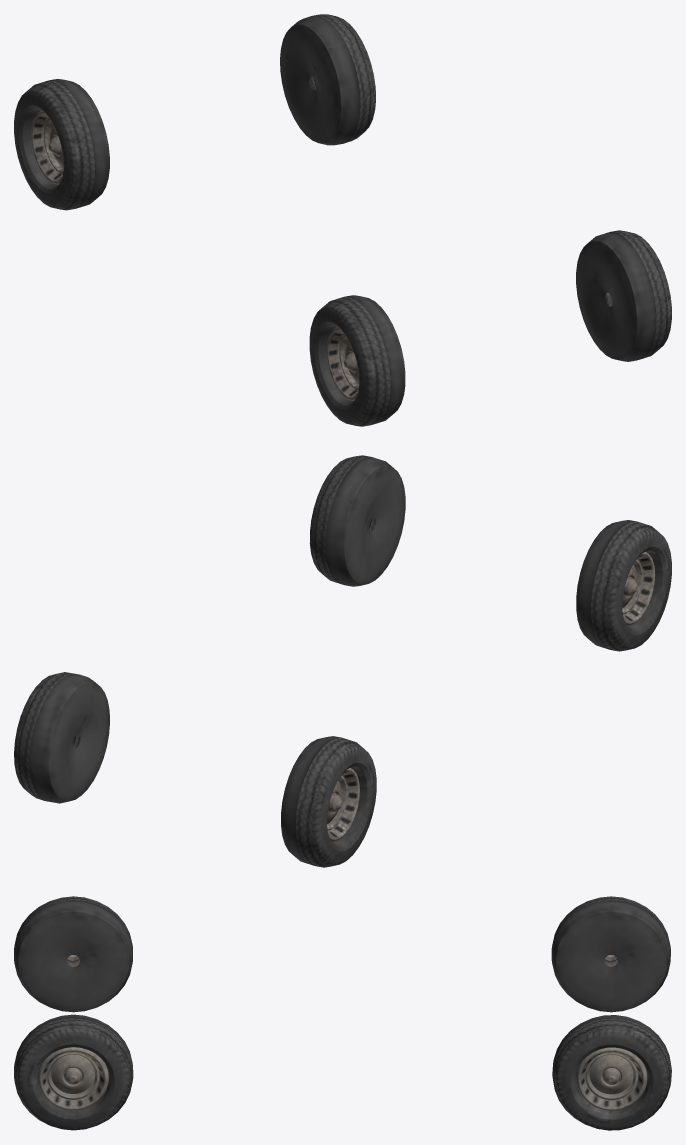
The model's file is wheels.glb.
3 renders of one model, top to bottom at view 1: azimuth 30°, elevation 25°; view 2: azimuth 150°, elevation 25°; view 3: azimuth 270°, elevation 25°, orthographic. The views are drawn at different scales.
Visible parts, largest first — view 1: back-left, front-right, back-right, front-left; view 2: back-left, back-right, front-right, front-left; view 3: front-left, front-right, back-right, back-left.
Part boxes in pixels (x1,y1,x2,y2): back-left: (309, 295, 405, 426); front-right: (280, 14, 375, 145); back-right: (576, 230, 671, 361); front-left: (14, 79, 109, 210); back-left: (576, 520, 671, 651); back-right: (309, 455, 405, 586); front-right: (14, 672, 109, 803); front-left: (281, 736, 376, 867); front-left: (551, 896, 670, 1012); front-right: (552, 1015, 671, 1130); back-right: (14, 1014, 133, 1130); back-left: (14, 896, 132, 1012).
Bounding box in the file's own units: 0.5524 × 0.2047 × 1.12.
Materials: 1 (1 with a texture image).
